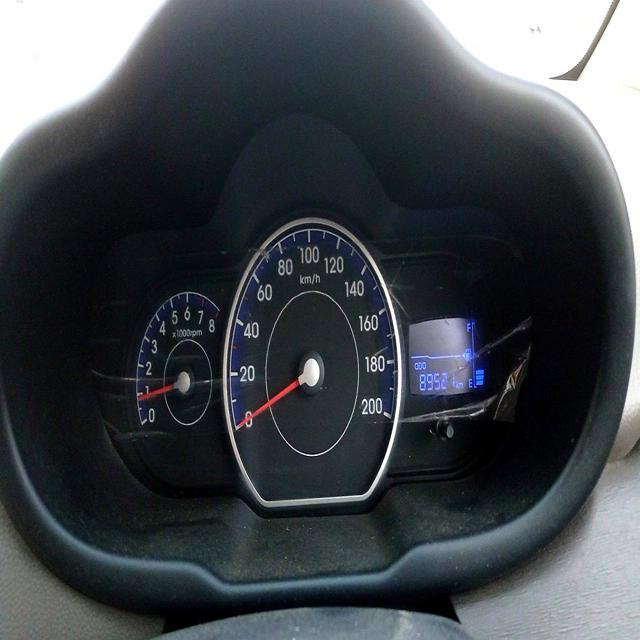odometer: (413, 367, 457, 395)
